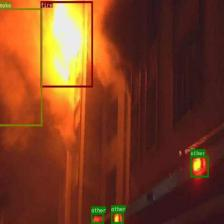fire: (40, 1, 92, 87)
smoke: (0, 7, 42, 126)
